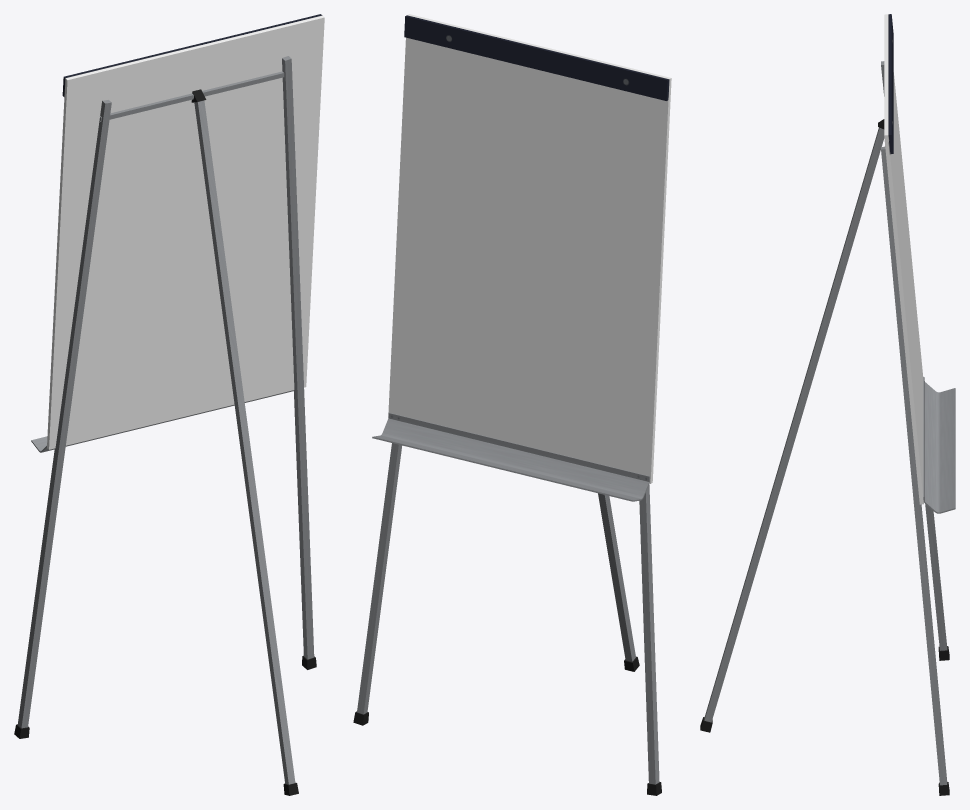
File: paperboard.glb
3 views of the same model, side by side, from view 1: azimuth 30°, elevation 25°; view 2: azimuth 150°, elevation 25°; view 3: azimuth 270°, elevation 25° (orthographic). The views are drawn at different scales.
Visible parts, largest first — view 1: Paperboard; view 2: Paperboard; view 3: Paperboard.
Boxes of the visible parts, bbox=[...] form: Paperboard: bbox=[14, 14, 324, 795]; Paperboard: bbox=[353, 14, 671, 795]; Paperboard: bbox=[700, 14, 955, 795].
Bounding box in the file's own units: 31.84 × 69.59 × 24.61.
1 material, 1 textured.
